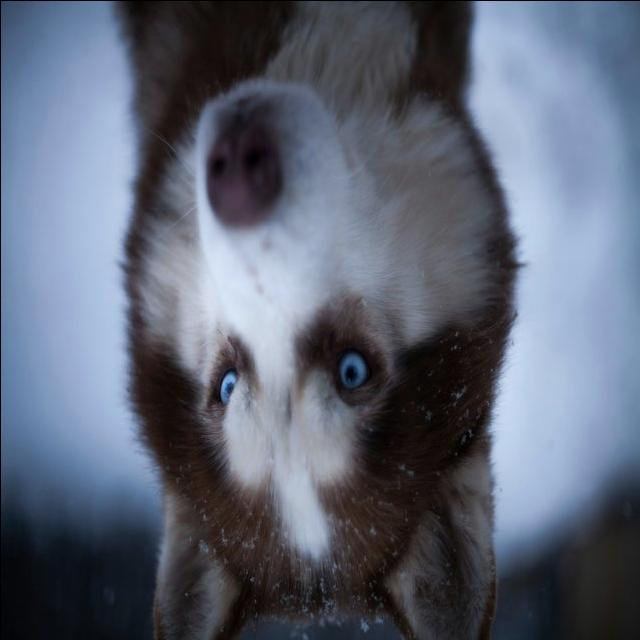husky: (112, 2, 523, 640)
